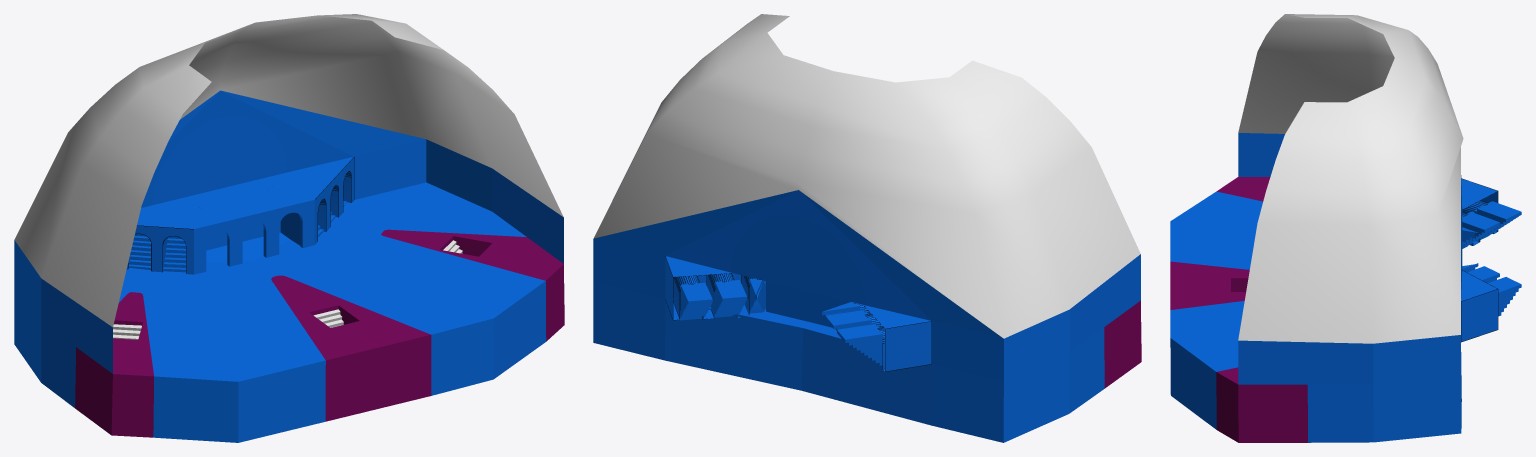
File: mainroom.fbx
3 renders of one model, left to right at view 1: azimuth 30°, elevation 25°; view 2: azimuth 150°, elevation 25°; view 3: azimuth 270°, elevation 25°, orthographic. The views are drawn at different scales.
Visible parts, largest first — view 1: Plane.009, Plane.008, Plane.003, Plane.011, Plane.005, Plane.004, Cube.003, Cube.002, Cube.007; view 2: Plane.008, Plane.003, Plane.009, Plane.004, Cube.003, Plane.011, Cube.002; view 3: Plane.008, Plane.009, Plane.003, Plane.011, Plane.004, Cube.003.
Boxes of the visible parts, x1,y1,x2,y2 form: Plane.009: [14, 182, 546, 442]; Plane.008: [14, 14, 563, 327]; Plane.003: [14, 90, 563, 373]; Plane.011: [75, 229, 564, 437]; Plane.005: [194, 199, 314, 274]; Plane.004: [127, 157, 354, 274]; Cube.003: [128, 198, 346, 272]; Cube.002: [206, 212, 300, 250]; Cube.007: [113, 240, 462, 339]; Plane.008: [593, 14, 1140, 338]; Plane.003: [593, 190, 1140, 381]; Plane.009: [593, 281, 1104, 442]; Plane.004: [665, 256, 931, 371]; Cube.003: [673, 278, 884, 366]; Plane.011: [1104, 300, 1141, 388]; Cube.002: [766, 281, 850, 327]; Plane.008: [1238, 14, 1463, 343]; Plane.009: [1170, 191, 1461, 442]; Plane.003: [1238, 133, 1462, 384]; Plane.011: [1170, 177, 1307, 442]; Plane.004: [1461, 178, 1498, 342]; Cube.003: [1462, 201, 1521, 316].
Bounding box in the file's own units: 2583 × 1636 × 1836.
